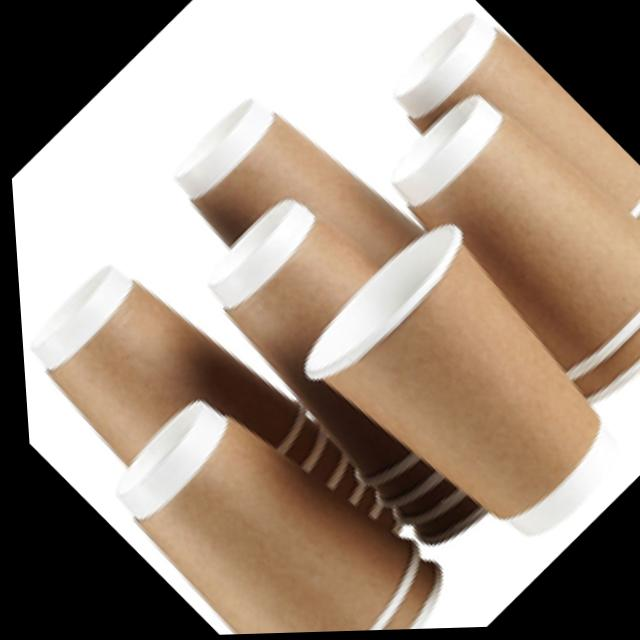paper_cups: (270, 203, 640, 585), (80, 353, 462, 639), (366, 58, 640, 423)
